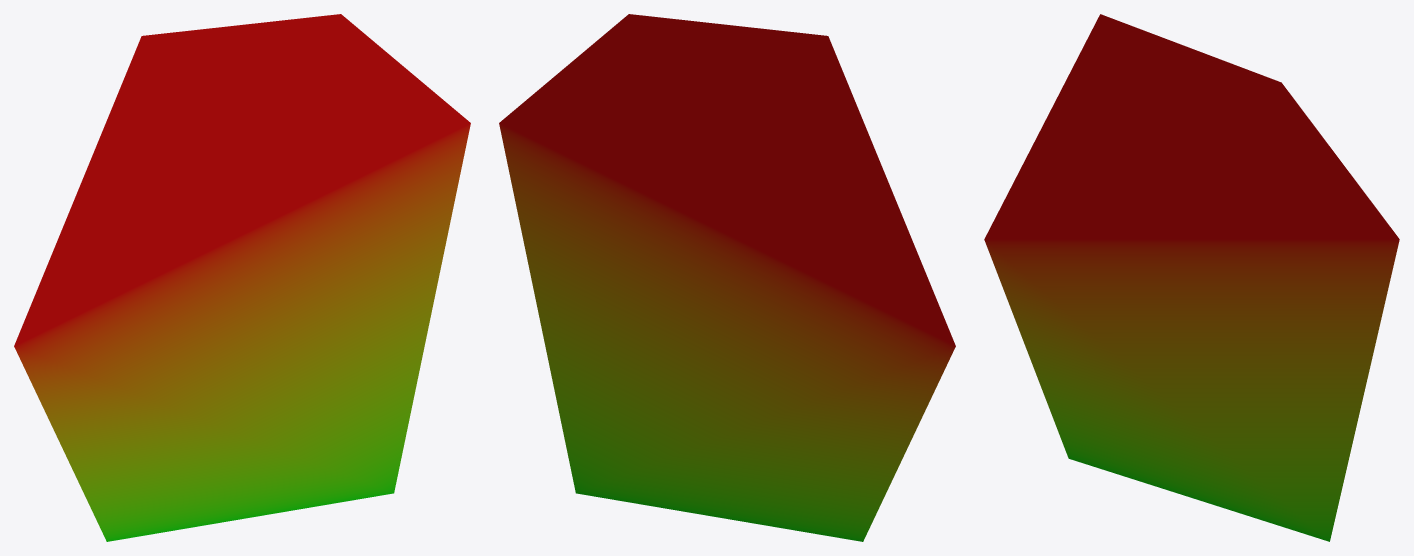
Rendered from Var7_LOD5.fbx.
3 views of the same model, side by side, from view 1: azimuth 30°, elevation 25°; view 2: azimuth 150°, elevation 25°; view 3: azimuth 330°, elevation 25° (orthographic). The views are drawn at different scales.
Visible parts, largest first — view 1: _8aca_Var7_LOD5; view 2: _8aca_Var7_LOD5; view 3: _8aca_Var7_LOD5.
Boxes of the visible parts, <box> form: _8aca_Var7_LOD5: <box>14,14,470,541</box>; _8aca_Var7_LOD5: <box>499,14,955,541</box>; _8aca_Var7_LOD5: <box>984,14,1399,541</box>.
Size of the model in its own units: 20.8 by 22.57 by 1.49e-07.
